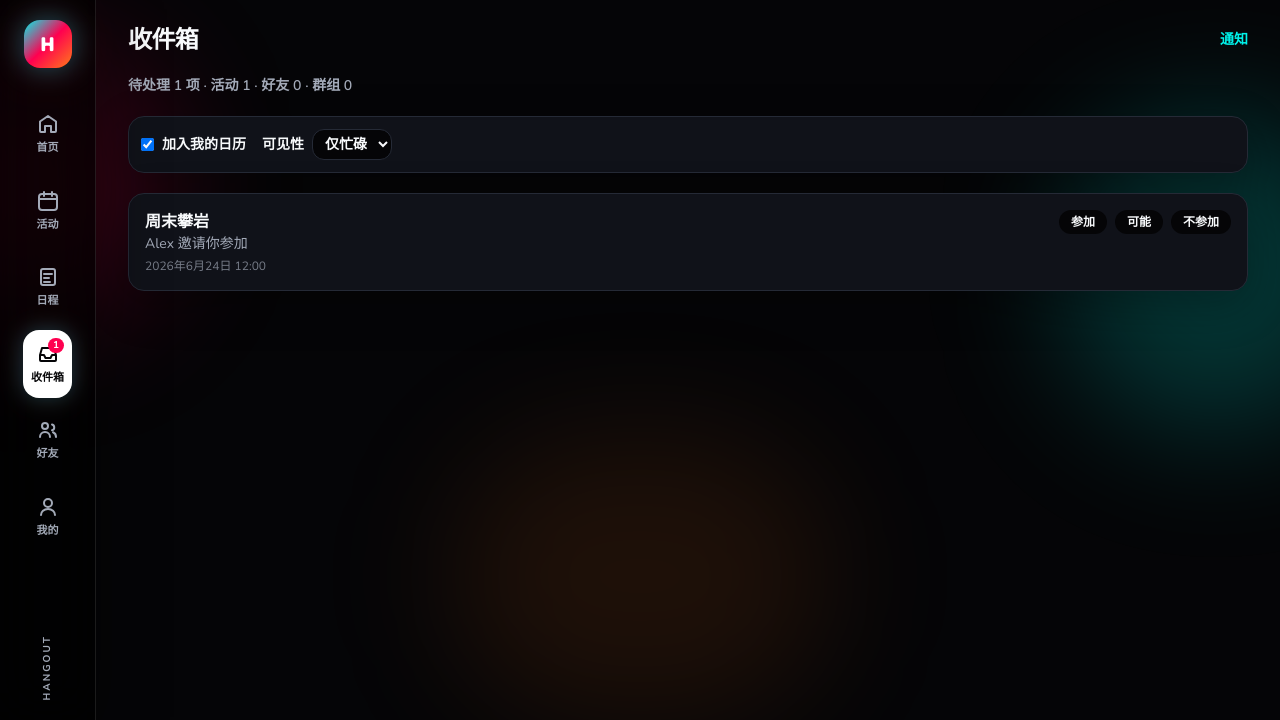
Scenario: App › refreshes the bottom inbox badge after handling an inbox item
Expected: the text named "收件箱未读 1" is shown, [48,338,64,352]
Click the button "参加". click: point(1083, 222)
box: [1059,210,1107,234]
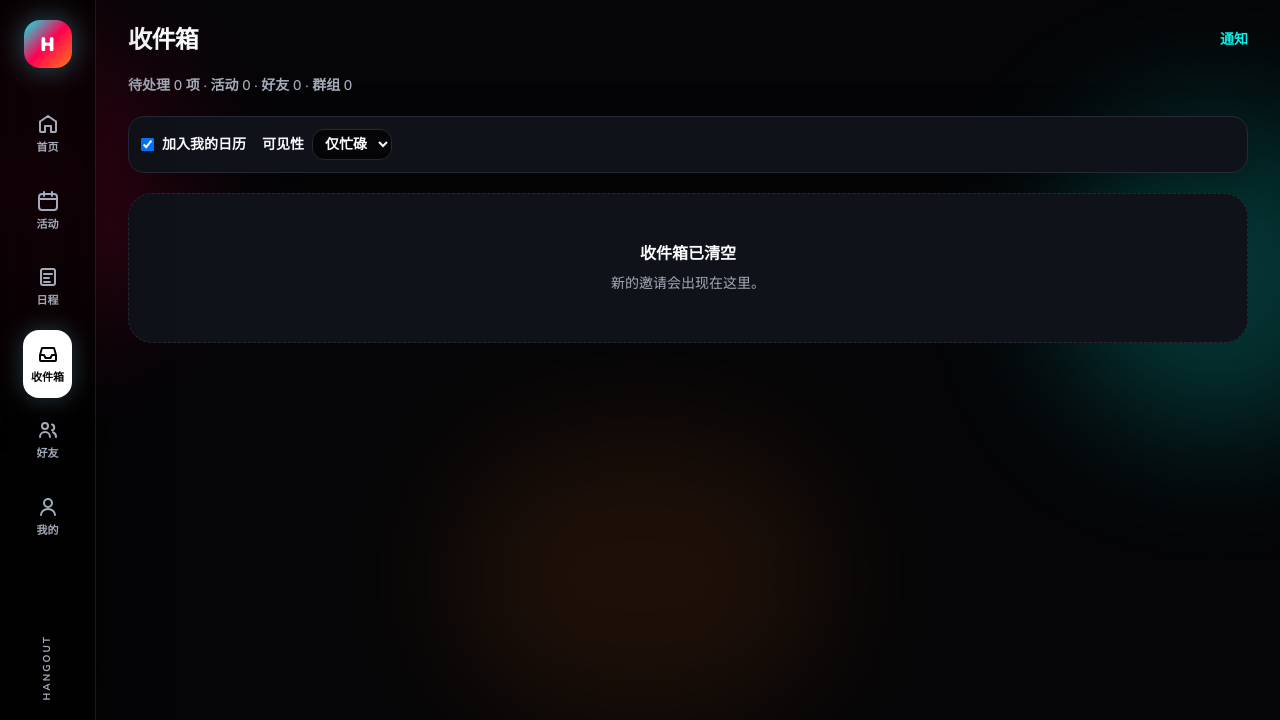
Expected: the text "收件箱已清空" is shown, [640,242,736,266]
